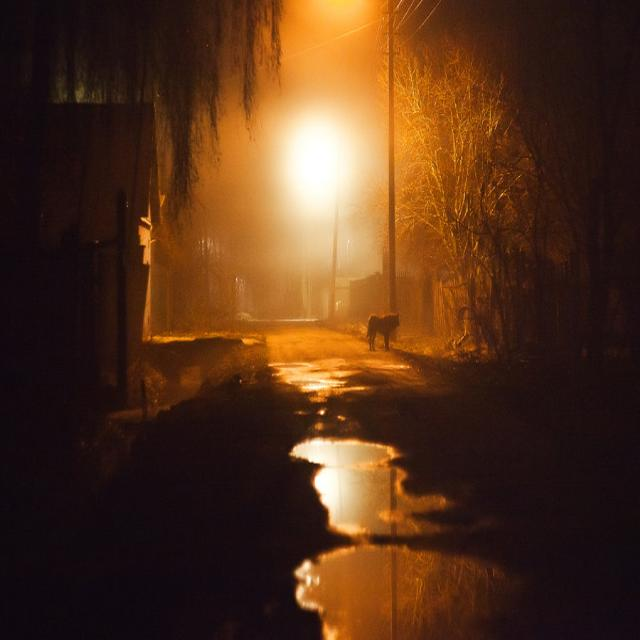Dog: (346, 310, 404, 398)
